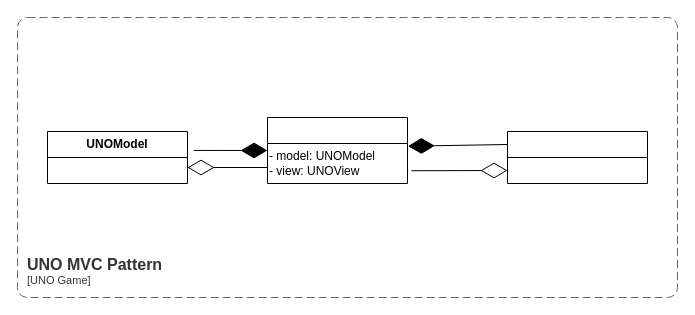
Some shapes in this 695 by 315 pixel diagram are drawn without their labels. The shapes that lost their labels are listed below. From the top down, each one's box as (x1, y1, x2, y2) in pixels, then its label:
(266, 116, 408, 184): UNOController
(506, 130, 648, 184): UNOView
